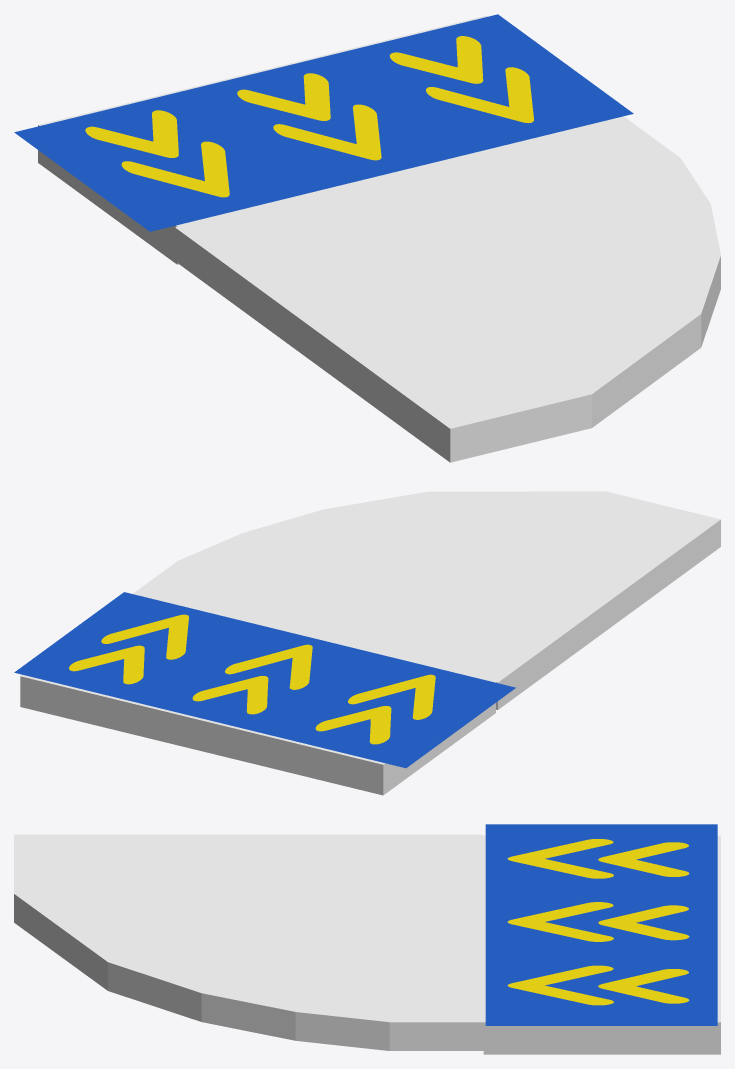
Rendered from Right Turn Tile.fbx.
3 renders of one model, top to bottom at view 1: azimuth 30°, elevation 25°; view 2: azimuth 150°, elevation 25°; view 3: azimuth 270°, elevation 25°, orthographic. The views are drawn at different scales.
Visible parts, largest first — view 1: Right_Turn_Tile, Speed_Boost_BG, Speed_Boost_Arrows, Speed_Boost_Arrows__2_, Speed_Boost_Arrows__1_, Cube__1_; view 2: Right_Turn_Tile, Speed_Boost_BG, Cube__1_, Cube, Cube__2_, Speed_Boost_Arrows, Speed_Boost_Arrows__1_, Speed_Boost_Arrows__2_; view 3: Right_Turn_Tile, Speed_Boost_BG, Cube__2_, Speed_Boost_Arrows__1_, Speed_Boost_Arrows, Speed_Boost_Arrows__2_, Cube__1_, Cube.
Boxes of the visible parts, x1=… form: Right_Turn_Tile: x1=175, y1=117, x2=720, y2=462; Speed_Boost_BG: x1=14, y1=14, x2=633, y2=231; Speed_Boost_Arrows: x1=237, y1=73, x2=381, y2=160; Speed_Boost_Arrows__2_: x1=85, y1=110, x2=229, y2=197; Speed_Boost_Arrows__1_: x1=389, y1=36, x2=533, y2=123; Cube__1_: x1=38, y1=87, x2=330, y2=264; Right_Turn_Tile: x1=133, y1=491, x2=720, y2=709; Speed_Boost_BG: x1=14, y1=592, x2=515, y2=768; Cube__1_: x1=258, y1=652, x2=495, y2=795; Cube: x1=139, y1=623, x2=376, y2=766; Cube__2_: x1=20, y1=593, x2=258, y2=736; Speed_Boost_Arrows: x1=192, y1=644, x2=312, y2=714; Speed_Boost_Arrows__1_: x1=69, y1=614, x2=188, y2=684; Speed_Boost_Arrows__2_: x1=315, y1=674, x2=435, y2=744; Right_Turn_Tile: x1=14, y1=834, x2=483, y2=1050; Speed_Boost_BG: x1=485, y1=824, x2=717, y2=1025; Cube__2_: x1=483, y1=957, x2=720, y2=1054; Speed_Boost_Arrows__1_: x1=507, y1=965, x2=689, y2=1005; Speed_Boost_Arrows: x1=507, y1=902, x2=689, y2=941; Speed_Boost_Arrows__2_: x1=507, y1=839, x2=689, y2=878; Cube__1_: x1=483, y1=835, x2=720, y2=899; Cube: x1=483, y1=896, x2=720, y2=957.
Bounding box in the file's own units: 390 × 32.21 × 579.
4 materials, 2 textured.
